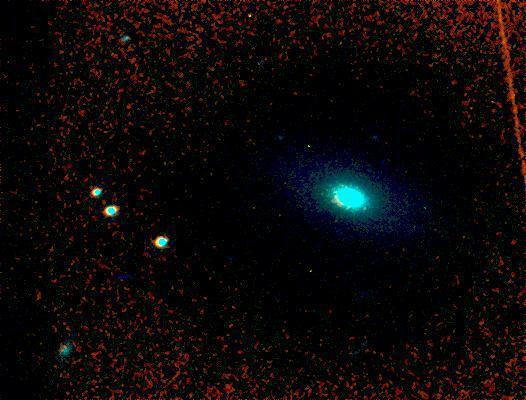star: (277, 81, 307, 111)
